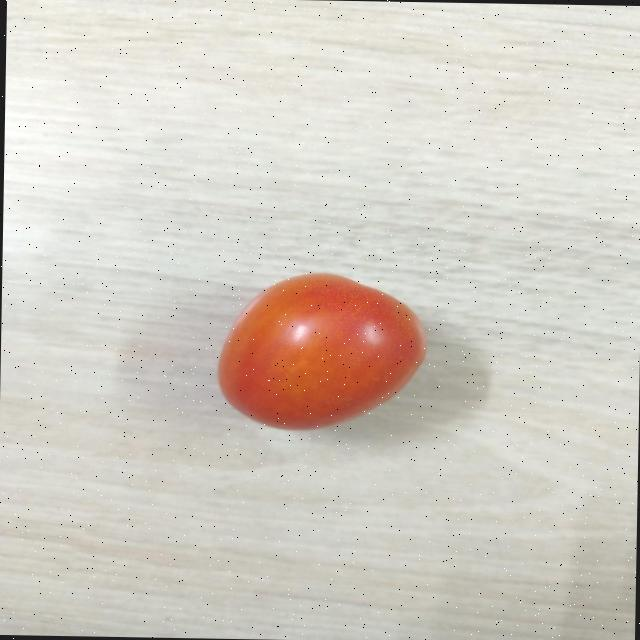Tomato: (210, 266, 432, 434)
